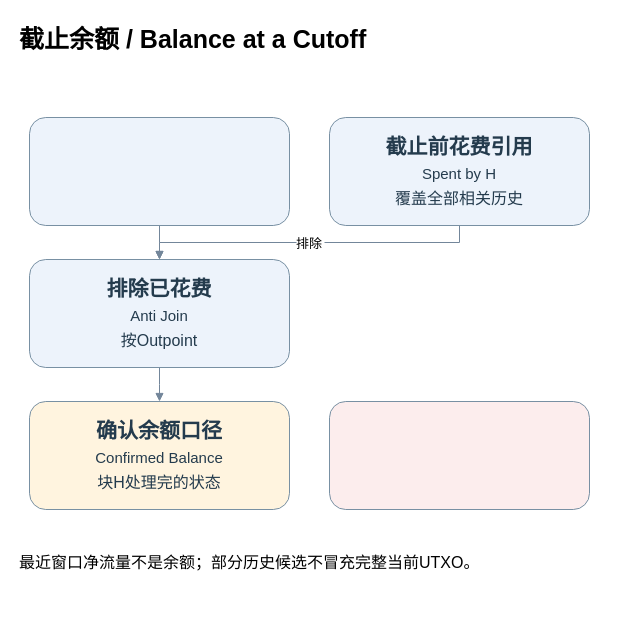
Some shapes in this 618 by 633 pixel diagram are drawn without their labels. Here are the shapes that lost their labels. From the top down, the centre of each, then its label:
the point at 159,171: 截止前创建输出 Created by H 完整地址/脚本范围
the point at 459,455: 可立即花费？ Spendable Now? 成熟、脚本、Mempool另查
